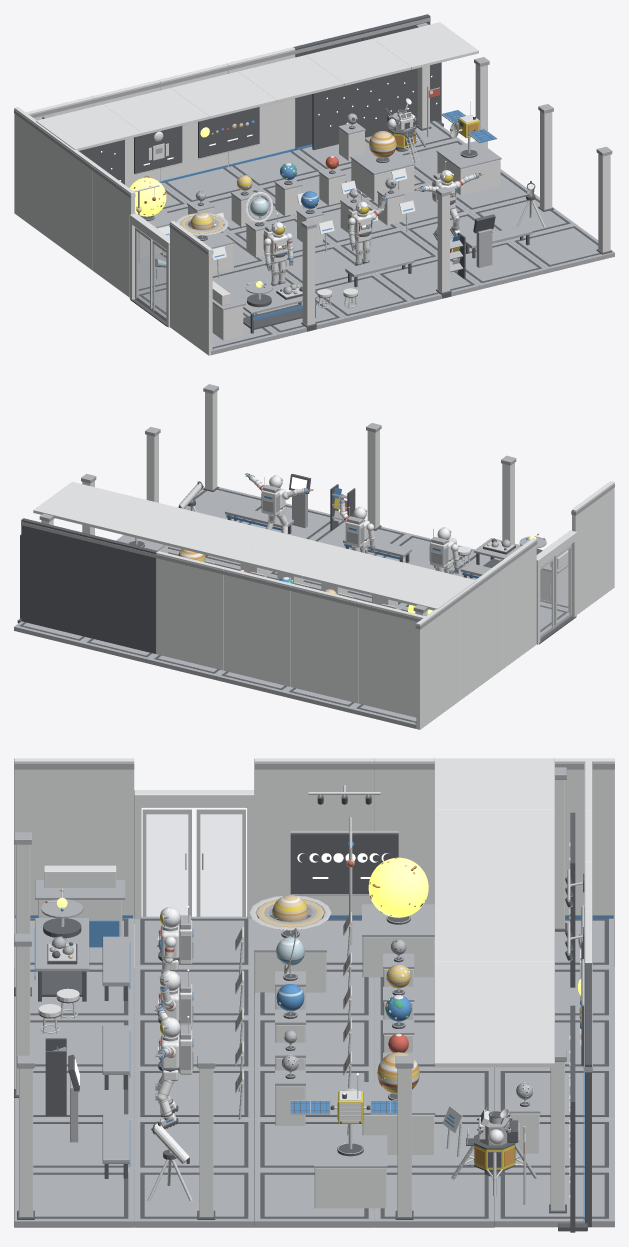
The model's file is solar-system-and-astronauts-space-galler-f2284ad0-starter-scene__39277.glb.
3 views of the same model, one above another, from view 1: azimuth 30°, elevation 25°; view 2: azimuth 150°, elevation 25°; view 3: azimuth 270°, elevation 25° (orthographic). The views are drawn at different scales.
Parts seen in each view (by area): view 1: 040-gallery-wall-module/0, 037-gallery-wall-module/0, 036-gallery-wall-module/0, 038-gallery-wall-module/0, 093-star-backdrop-panel/0, 033-gallery-wall-module/0, 041-gallery-ceiling-panel/0, 046-gallery-ceiling-panel/0, 043-gallery-ceiling-panel/0, 042-gallery-ceiling-panel/0, 045-gallery-ceiling-panel/0, 044-gallery-ceiling-panel/0 (+65 smaller); view 2: 035-gallery-wall-module-dark/0, 032-gallery-wall-module/0, 033-gallery-wall-module/0, 031-gallery-wall-module/0, 034-gallery-wall-module-dark/0, 030-gallery-wall-module/0, 036-gallery-wall-module/0, 038-gallery-wall-module/0, 040-gallery-wall-module/0, 037-gallery-wall-module/0, 043-gallery-ceiling-panel/0, 042-gallery-ceiling-panel/0 (+30 smaller); view 3: 040-gallery-wall-module/0, 038-gallery-wall-module/0, 046-gallery-ceiling-panel/0, 041-gallery-ceiling-panel/0, 045-gallery-ceiling-panel/0, 042-gallery-ceiling-panel/0, 043-gallery-ceiling-panel/0, 044-gallery-ceiling-panel/0, 036-gallery-wall-module/0, 029-gallery-floor-tile/0, 037-gallery-wall-module/0, 028-gallery-floor-tile/0 (+87 smaller).
Part boxes in pixels (bbox=[...]): 040-gallery-wall-module/0: bbox=[170, 221, 212, 355]; 037-gallery-wall-module/0: bbox=[53, 136, 95, 269]; 036-gallery-wall-module/0: bbox=[14, 107, 54, 241]; 038-gallery-wall-module/0: bbox=[92, 164, 134, 297]; 093-star-backdrop-panel/0: bbox=[312, 77, 380, 149]; 033-gallery-wall-module/0: bbox=[226, 47, 295, 166]; 041-gallery-ceiling-panel/0: bbox=[36, 104, 141, 150]; 046-gallery-ceiling-panel/0: bbox=[373, 22, 478, 69]; 043-gallery-ceiling-panel/0: bbox=[171, 71, 276, 118]; 042-gallery-ceiling-panel/0: bbox=[103, 88, 209, 135]; 045-gallery-ceiling-panel/0: bbox=[305, 38, 411, 85]; 044-gallery-ceiling-panel/0: bbox=[238, 55, 343, 102]; 035-gallery-wall-module-dark/0: bbox=[21, 518, 90, 637]; 032-gallery-wall-module/0: bbox=[223, 567, 292, 686]; 033-gallery-wall-module/0: bbox=[156, 551, 225, 670]; 031-gallery-wall-module/0: bbox=[291, 584, 359, 703]; 034-gallery-wall-module-dark/0: bbox=[88, 534, 157, 653]; 030-gallery-wall-module/0: bbox=[358, 600, 426, 717]; 036-gallery-wall-module/0: bbox=[416, 595, 458, 729]; 038-gallery-wall-module/0: bbox=[494, 538, 536, 672]; 040-gallery-wall-module/0: bbox=[572, 481, 614, 614]; 037-gallery-wall-module/0: bbox=[457, 566, 497, 700]; 043-gallery-ceiling-panel/0: bbox=[235, 531, 341, 578]; 042-gallery-ceiling-panel/0: bbox=[303, 547, 408, 594]; 040-gallery-wall-module/0: bbox=[14, 758, 134, 923]; 038-gallery-wall-module/0: bbox=[254, 758, 374, 914]; 046-gallery-ceiling-panel/0: bbox=[434, 1012, 554, 1067]; 041-gallery-ceiling-panel/0: bbox=[434, 758, 554, 809]; 045-gallery-ceiling-panel/0: bbox=[434, 961, 554, 1012]; 042-gallery-ceiling-panel/0: bbox=[434, 809, 554, 859]; 043-gallery-ceiling-panel/0: bbox=[434, 860, 554, 910]; 044-gallery-ceiling-panel/0: bbox=[434, 911, 554, 961]; 036-gallery-wall-module/0: bbox=[495, 758, 614, 917]; 029-gallery-floor-tile/0: bbox=[14, 1170, 134, 1227]; 037-gallery-wall-module/0: bbox=[374, 758, 494, 904]; 028-gallery-floor-tile/0: bbox=[134, 1170, 254, 1227].
Size of the model in its own units: 12.31 by 3.02 by 10.
